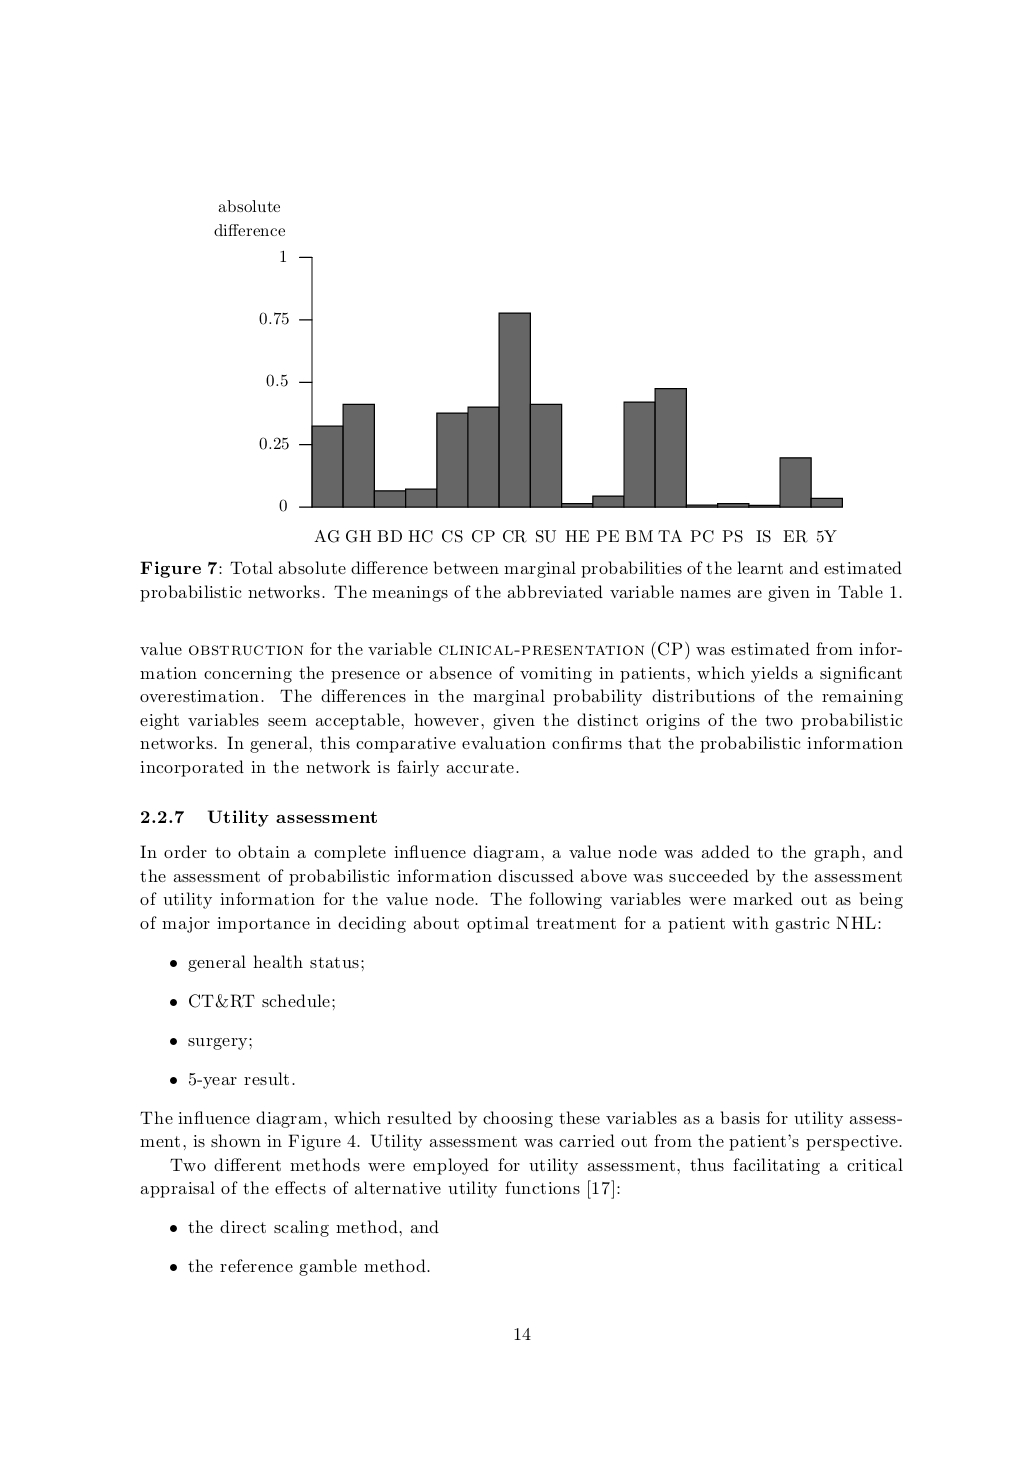figure: (259, 249, 842, 512)
